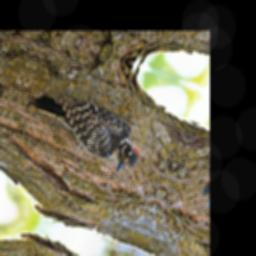Woodpecker: (13, 86, 154, 177)
